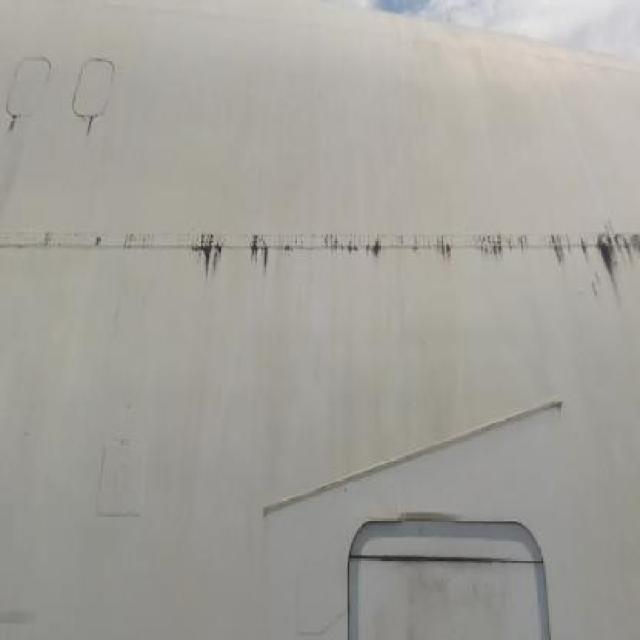Rust: (175, 206, 640, 311), (82, 112, 98, 136), (6, 114, 20, 138)
Scartch: (398, 561, 516, 640), (5, 595, 37, 640)
